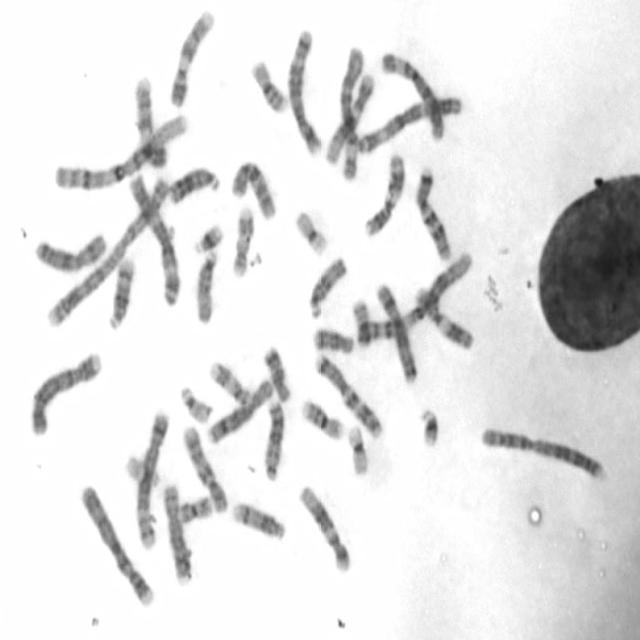A1: (354, 248, 476, 346), (51, 109, 190, 193)
A2: (42, 171, 174, 330), (476, 420, 608, 482)
A3: (124, 168, 184, 309), (356, 95, 464, 157)
B4: (76, 477, 156, 609), (27, 347, 104, 439)
B5: (132, 406, 172, 550), (285, 22, 323, 156)
C10: (179, 420, 230, 516), (228, 152, 279, 222)
C11: (411, 281, 476, 351), (360, 147, 407, 239)
C12: (322, 67, 377, 168), (296, 479, 353, 574)
C6: (379, 48, 446, 142), (337, 42, 365, 182)
C7: (311, 348, 386, 439), (411, 163, 454, 263)
C8: (203, 373, 276, 446), (159, 477, 193, 586)
C9: (166, 5, 217, 110), (131, 73, 170, 170)
D13: (165, 159, 222, 206), (261, 395, 286, 481)
D14: (228, 496, 288, 542), (105, 252, 137, 332)
D15: (305, 252, 349, 320), (193, 242, 220, 326)
E16: (248, 53, 288, 115), (297, 393, 346, 442)
E17: (205, 353, 254, 406), (228, 201, 256, 279)
E18: (260, 340, 294, 404), (310, 322, 356, 357)
F19: (291, 204, 330, 257), (344, 420, 370, 477)
F20: (177, 491, 216, 526), (348, 292, 372, 348)
G21: (190, 217, 225, 255), (415, 402, 442, 449)
G22: (124, 450, 164, 491), (176, 381, 213, 425)
X: (372, 278, 420, 385), (32, 227, 108, 275)
